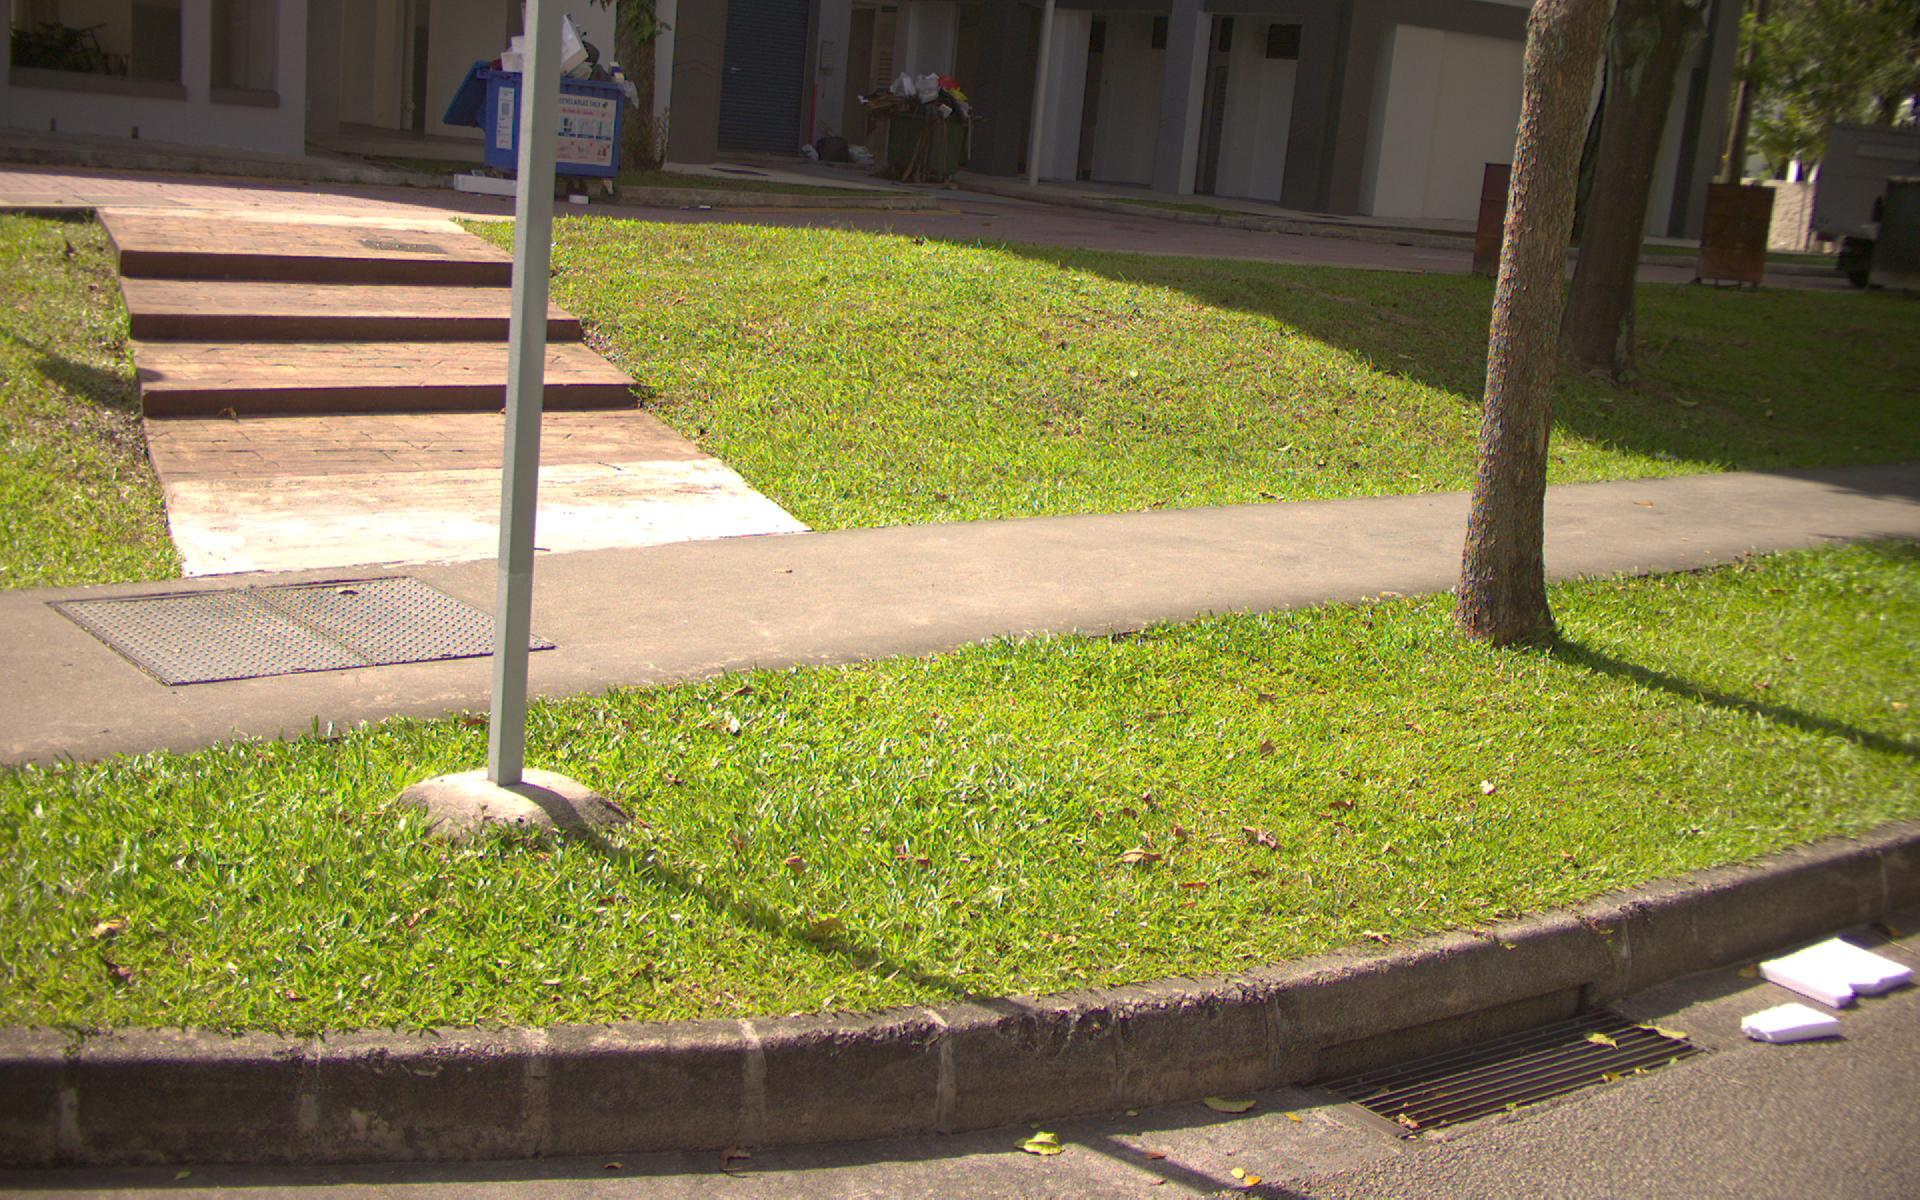curb_grill_low: (1309, 1006, 1697, 1145)
road_curb_low: (583, 924, 1919, 1192)
road_turf_low: (17, 554, 1901, 1026)
